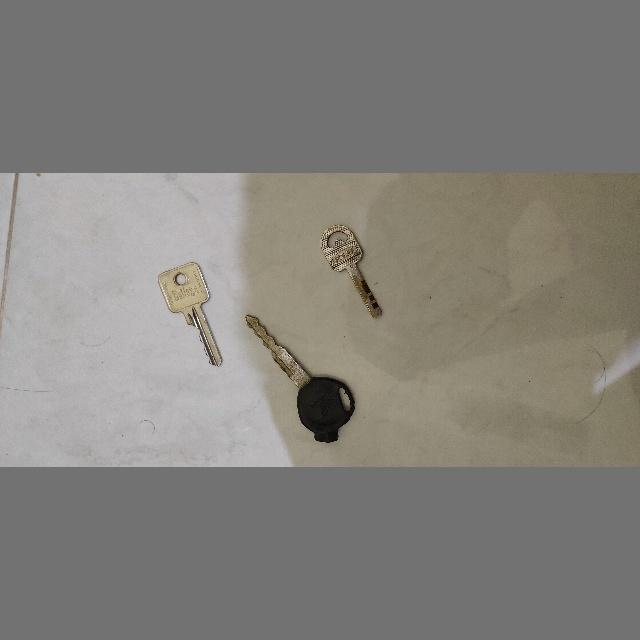Keys: (242, 312, 358, 446), (153, 260, 225, 370), (318, 224, 387, 322)
